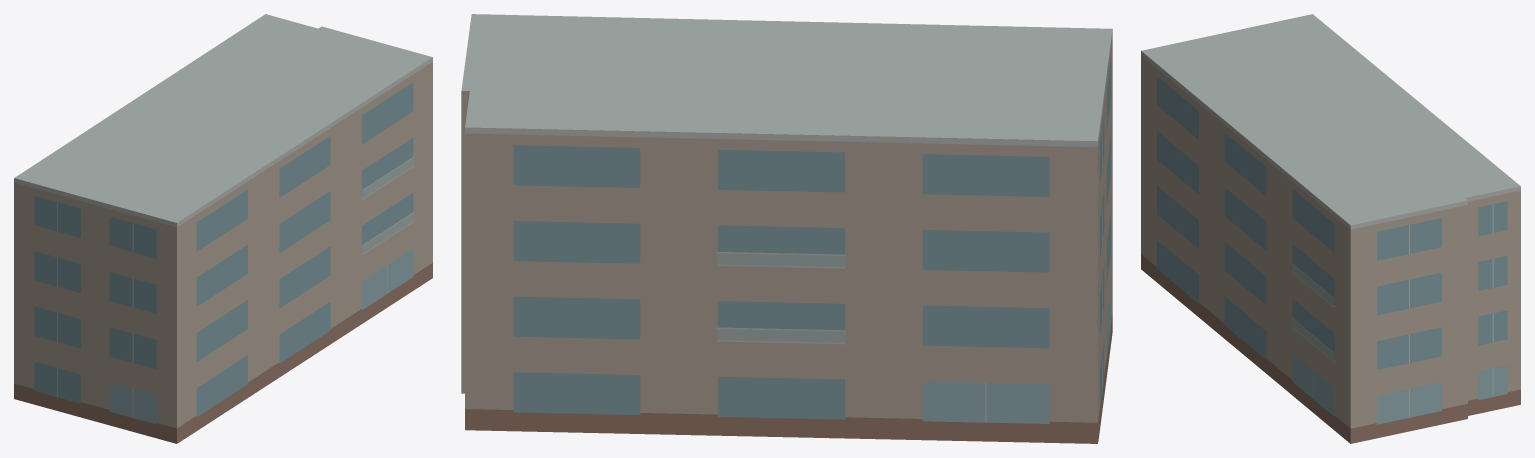
Rendered from survey-upis-32727443.glb.
3 views of the same model, side by side, from view 1: azimuth 30°, elevation 25°; view 2: azimuth 150°, elevation 25°; view 3: azimuth 270°, elevation 25° (orthographic). The views are drawn at different scales.
Visible parts, largest first — view 1: survey-upis-32727443.tmp; view 2: survey-upis-32727443.tmp; view 3: survey-upis-32727443.tmp.
Boxes of the visible parts, left/top/right/bottom form: survey-upis-32727443.tmp: left=14, top=14, right=432, bottom=443; survey-upis-32727443.tmp: left=461, top=14, right=1112, bottom=443; survey-upis-32727443.tmp: left=1141, top=14, right=1520, bottom=443.
Size of the model in its own units: 25.17 by 12.13 by 19.11.
